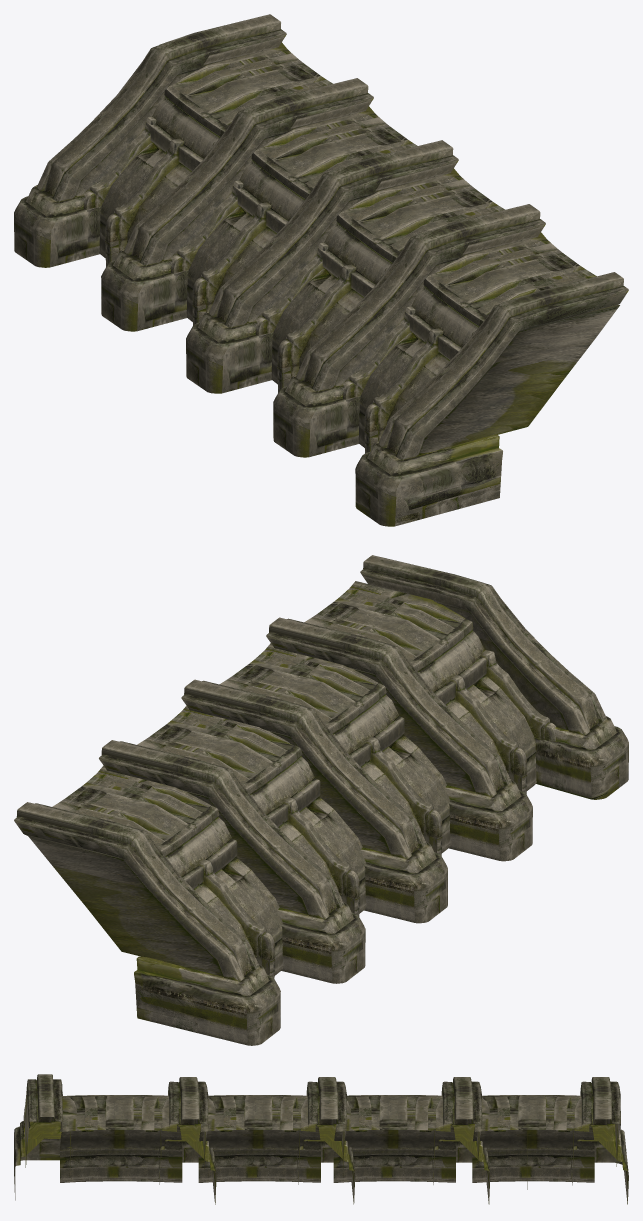
The model's file is Dam_ruins_st.FBX.
The picture shows the model from 3 angles, top to bottom: view 1: azimuth 30°, elevation 25°; view 2: azimuth 150°, elevation 25°; view 3: azimuth 270°, elevation 25°; orthographic projection. The views are drawn at different scales.
Visible parts, largest first — view 1: Dam_ruins_st; view 2: Dam_ruins_st; view 3: Dam_ruins_st.
Boxes of the visible parts, x1=… form: Dam_ruins_st: x1=14, y1=14, x2=628, y2=526; Dam_ruins_st: x1=14, y1=555, x2=628, y2=1045; Dam_ruins_st: x1=14, y1=1074, x2=628, y2=1204.
Size of the model in its own units: 1320 by 864 by 3401.
